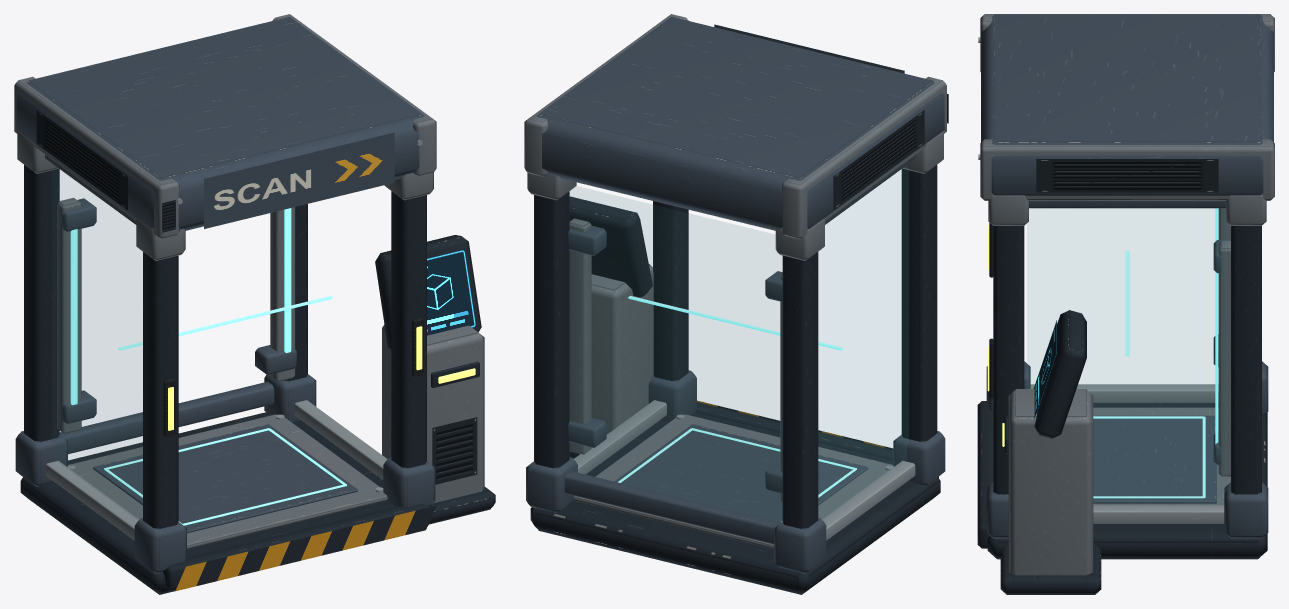
The model's file is scanner.glb.
3 views of the same model, side by side, from view 1: azimuth 30°, elevation 25°; view 2: azimuth 150°, elevation 25°; view 3: azimuth 270°, elevation 25° (orthographic).
Parts seen in each view (by area): view 1: Scanner_Frame, Scanner_Glass, Scanner_ScanBeam; view 2: Scanner_Frame, Scanner_Glass, Scanner_ScanBeam; view 3: Scanner_Frame, Scanner_Glass, Scanner_ScanBeam.
Part boxes in pixels (bbox=[...]): Scanner_Frame: bbox=[14, 14, 495, 594]; Scanner_Glass: bbox=[53, 166, 142, 519]; Scanner_ScanBeam: bbox=[118, 296, 332, 350]; Scanner_Frame: bbox=[524, 14, 948, 594]; Scanner_Glass: bbox=[569, 166, 908, 522]; Scanner_ScanBeam: bbox=[628, 296, 842, 350]; Scanner_Frame: bbox=[977, 14, 1274, 594]; Scanner_Glass: bbox=[1027, 209, 1227, 504]; Scanner_ScanBeam: bbox=[1125, 251, 1129, 356].
Bounding box in the file's own units: 2.52 × 2.83 × 1.83.
2 materials, 1 textured.
